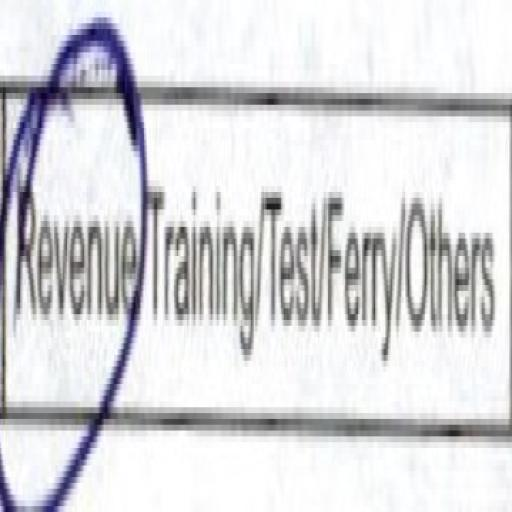check: (2, 13, 140, 511)
